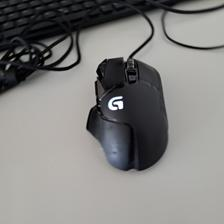mouse: (84, 56, 169, 173)
